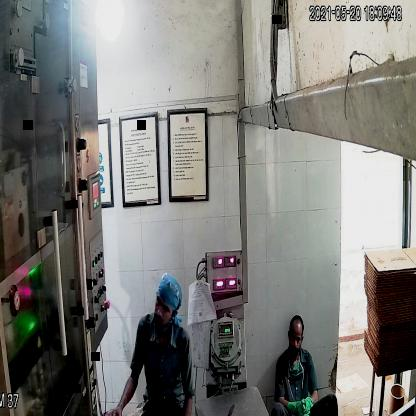no_goggles: (152, 294, 176, 319), (286, 330, 304, 347)
